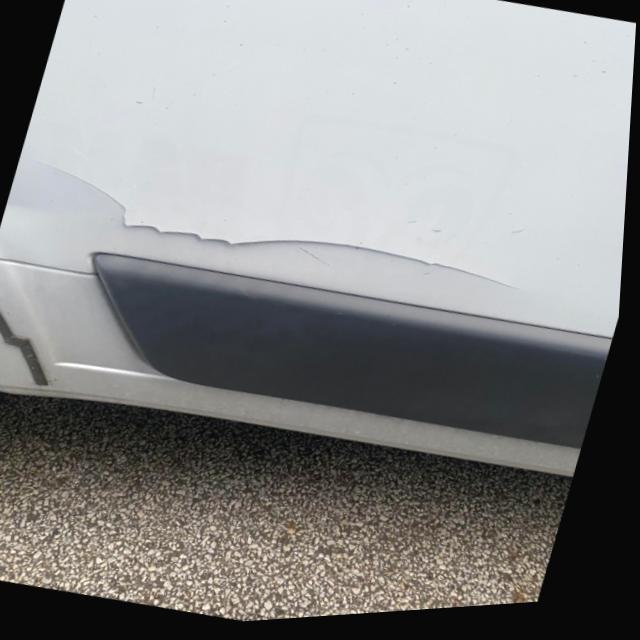Paint-Crack: (23, 153, 535, 295)
